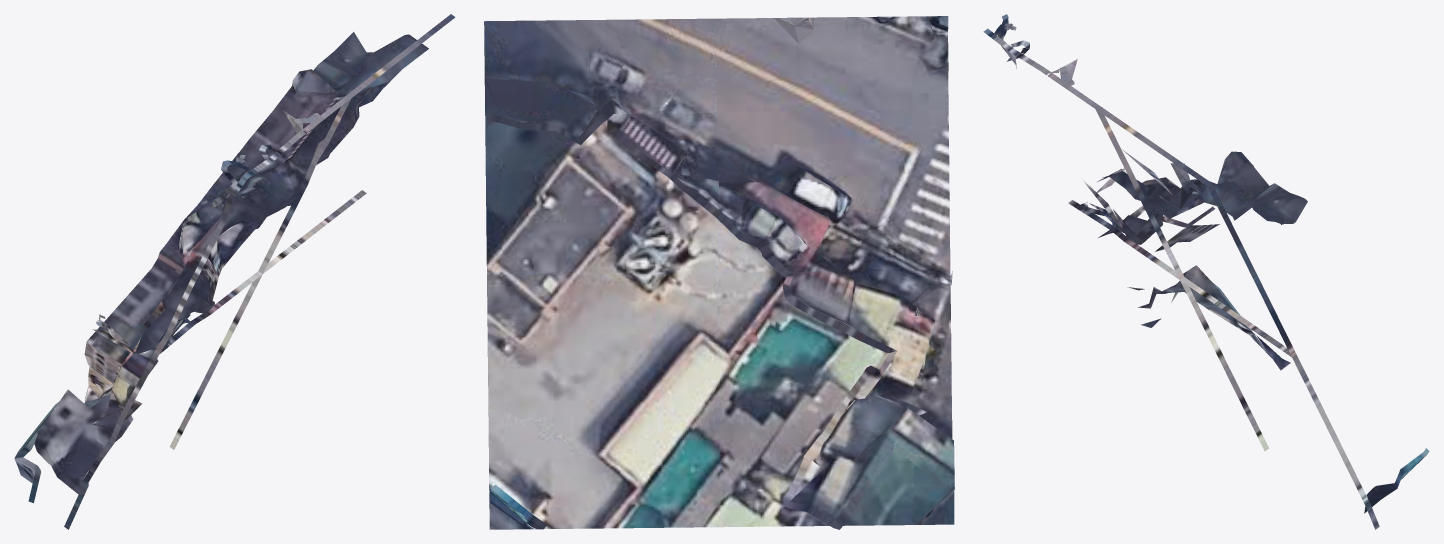
3 views of the same model, side by side, from view 1: azimuth 30°, elevation 25°; view 2: azimuth 150°, elevation 25°; view 3: azimuth 270°, elevation 25° (orthographic). The views are drawn at different scales.
Bounding box in the file's own units: 40.61 × 35.73 × 36.09.
Materials: 1 (1 with a texture image).
